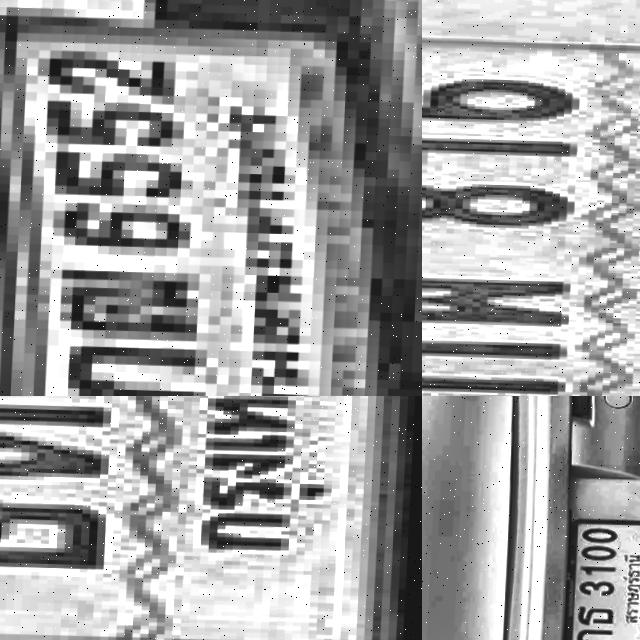license-plate: (0, 0, 422, 396), (0, 396, 418, 640), (422, 0, 640, 396), (559, 517, 640, 640)
